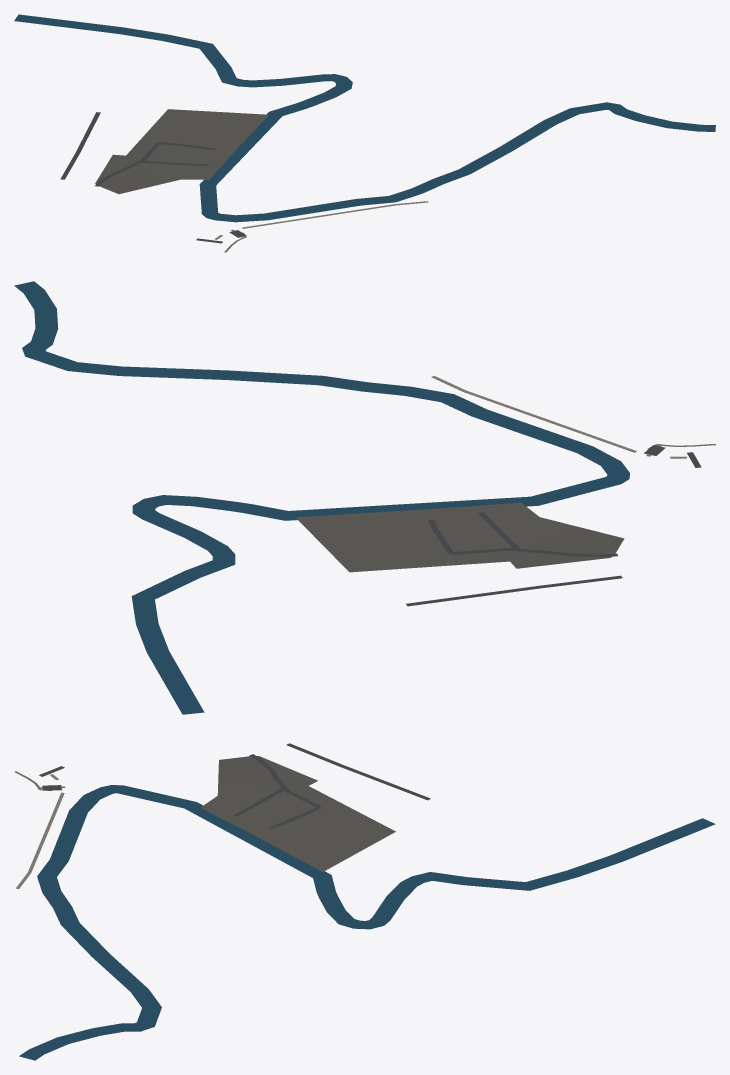
3 renders of one model, top to bottom at view 1: azimuth 30°, elevation 25°; view 2: azimuth 150°, elevation 25°; view 3: azimuth 270°, elevation 25°, orthographic. The views are drawn at different scales.
Visible parts, largest first — view 1: Water__r-9c3, Landuse__r-9c3, Roads_Minor__r-9c3, Sidewalks__r-9c3-col; view 2: Water__r-9c3, Landuse__r-9c3, Roads_Minor__r-9c3, Sidewalks__r-9c3-col; view 3: Water__r-9c3, Landuse__r-9c3, Roads_Minor__r-9c3.
Boxes of the visible parts, bbox=[...] form: Water__r-9c3: bbox=[14, 14, 715, 222]; Landuse__r-9c3: bbox=[95, 109, 268, 194]; Roads_Minor__r-9c3: bbox=[60, 112, 246, 243]; Sidewalks__r-9c3-col: bbox=[214, 201, 428, 239]; Water__r-9c3: bbox=[14, 281, 629, 714]; Landuse__r-9c3: bbox=[295, 502, 624, 572]; Roads_Minor__r-9c3: bbox=[406, 445, 701, 606]; Sidewalks__r-9c3-col: bbox=[431, 376, 686, 458]; Water__r-9c3: bbox=[19, 785, 715, 1060]; Landuse__r-9c3: bbox=[200, 756, 395, 871]; Roads_Minor__r-9c3: bbox=[39, 743, 430, 828].
Bounding box in the file's own units: 539 × 0.914 × 506.
